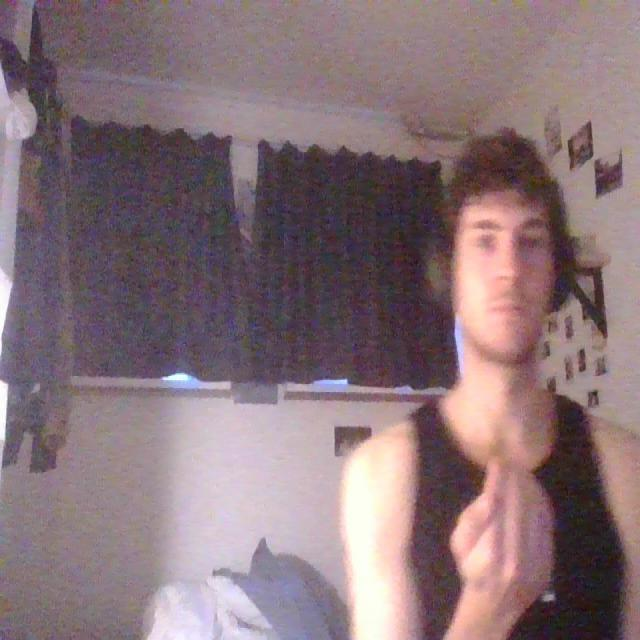forward: (448, 442, 570, 613)
